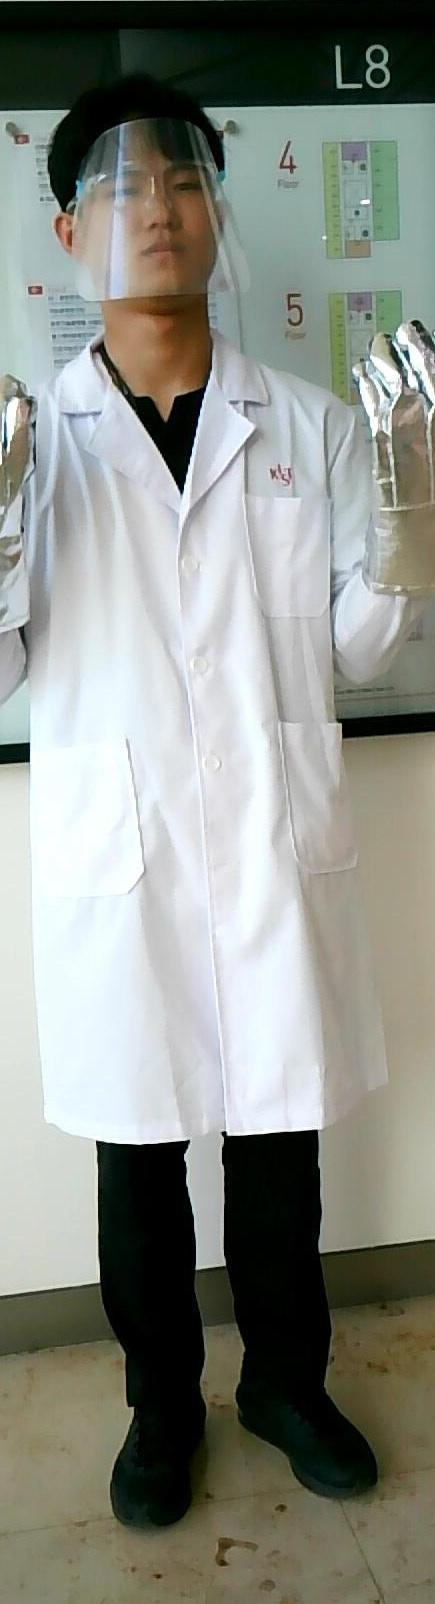lab_coat: (32, 407, 354, 1118)
